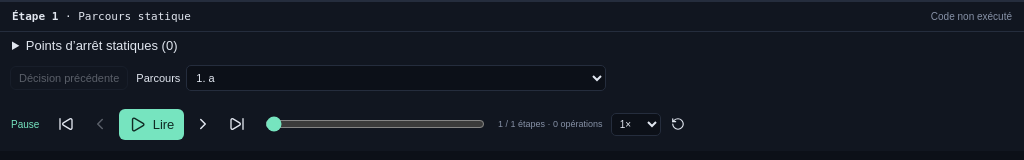
manual keyboard navigation pauses autoplay
Click the button "Lire": (152, 124) [119,108,184,140]
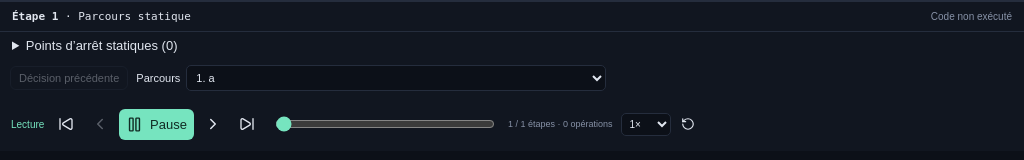
Press ArrowRight
Wait 2000 ms
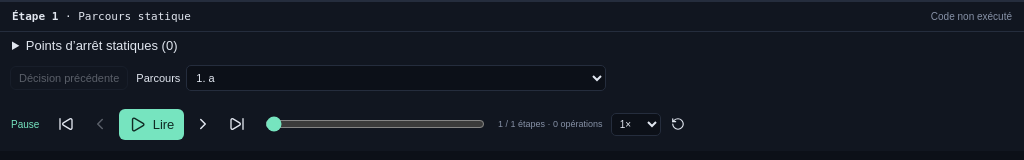
Now the button "Lire" is shown, box [119,108,184,140]
